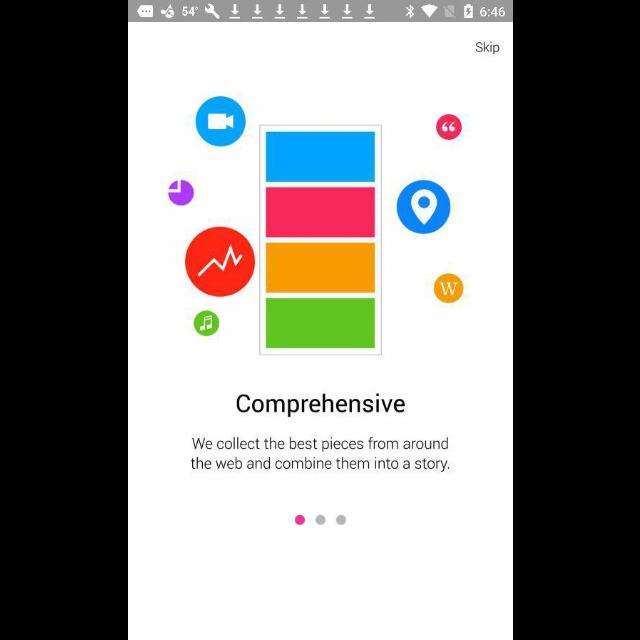image: (167, 96, 461, 354)
pageindicator: (294, 514, 346, 526)
text: (190, 436, 450, 472), (236, 392, 404, 418), (475, 41, 499, 55)
uppertaskbar: (128, 1, 512, 23)
